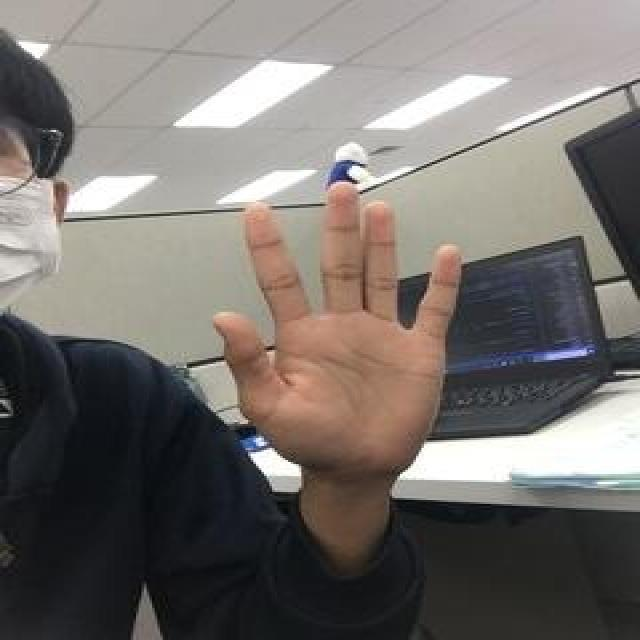hand: (205, 180, 464, 480)
